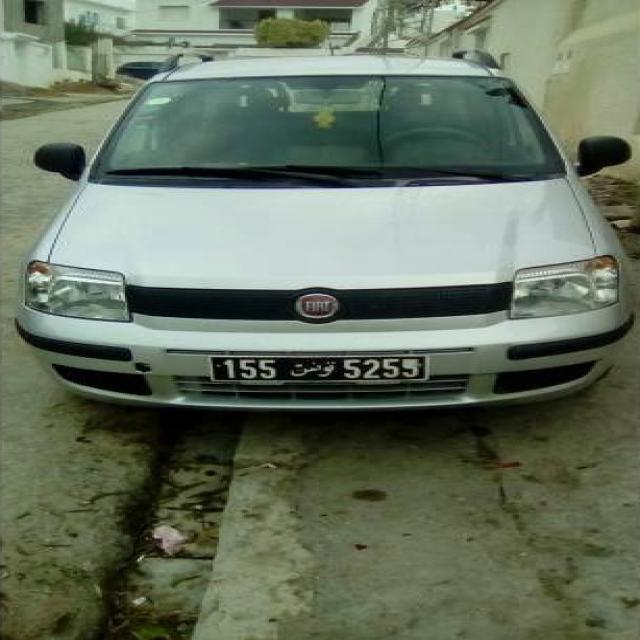licence plate: (212, 357, 426, 380)
